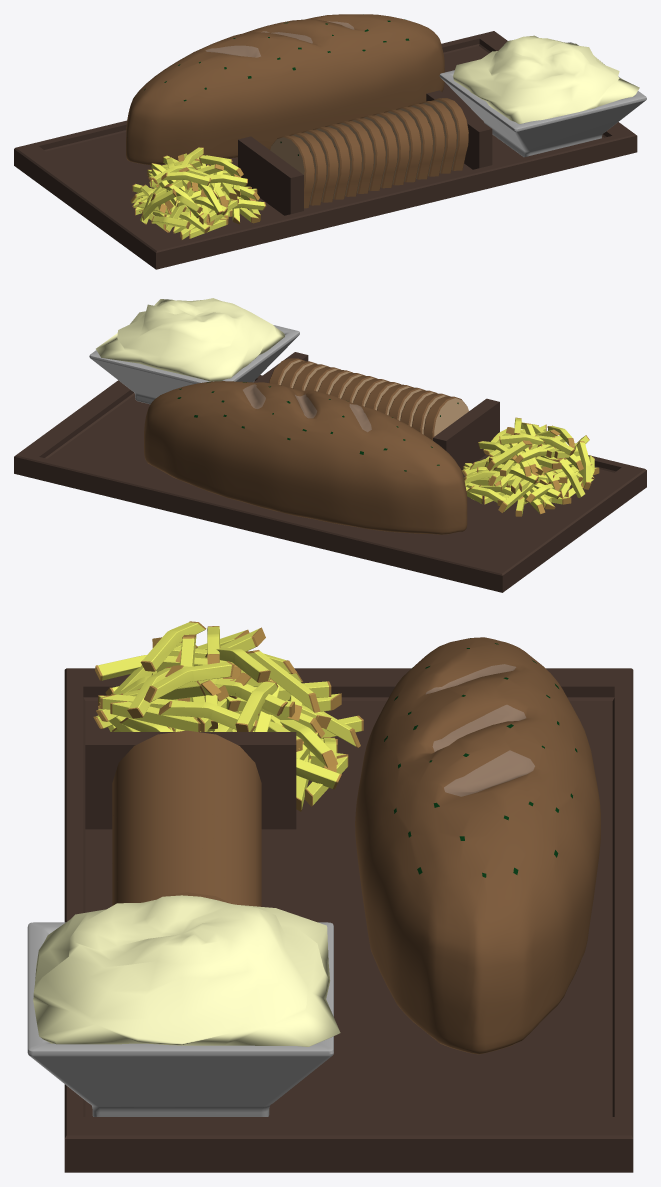
The model's file is TrayComplete.fbx.
3 renders of one model, top to bottom at view 1: azimuth 30°, elevation 25°; view 2: azimuth 150°, elevation 25°; view 3: azimuth 270°, elevation 25°, orthographic. The views are drawn at different scales.
Visible parts, largest first — view 1: Bread, Tray, MashedPotato, bowl, Bread1, Bread9, Bread10, Bread3, Bread2, Bread11, Bread4, Bread5 (+7 smaller); view 2: Bread, Tray, MashedPotato, bowl, Bread1, Bread2, Bread3, Bread4, Bread5, pCube12; view 3: Tray, Bread, MashedPotato, bowl, pCube15 (×4), Bread6, Bread4, Bread5, Bread7, Bread8, Bread3, Bread2 (+12 smaller).
Boxes of the visible parts, box(x1,y1,x2,y2) form: Bread: box(126, 14, 444, 164); Tray: box(14, 31, 637, 269); MashedPotato: box(453, 35, 639, 123); bowl: box(439, 42, 646, 157); Bread1: box(270, 135, 314, 208); Bread9: box(372, 112, 409, 185); Bread10: box(384, 109, 421, 182); Bread3: box(301, 129, 338, 202); Bread2: box(289, 132, 326, 205); Bread11: box(396, 106, 433, 179); Bread4: box(313, 127, 350, 199); Bread5: box(325, 124, 362, 196); Bread: box(144, 381, 467, 534); Tray: box(14, 352, 646, 592); MashedPotato: box(96, 298, 284, 381); bowl: box(89, 299, 299, 404); Bread1: box(423, 396, 468, 440); Bread2: box(411, 393, 449, 434); Bread3: box(400, 390, 437, 426); Bread4: box(388, 387, 425, 420); Bread5: box(377, 384, 413, 415); pCube12: box(486, 440, 532, 470); Tray: box(64, 668, 633, 1172); Bread: box(355, 637, 600, 1054); MashedPotato: box(33, 895, 340, 1046); bowl: box(27, 922, 333, 1116); pCube15 (×4): box(140, 621, 337, 768); Bread6: box(112, 788, 261, 851); Bread4: box(112, 765, 261, 828); Bread5: box(112, 776, 261, 840); Bread7: box(112, 800, 261, 863); Bread8: box(112, 811, 261, 874); Bread3: box(112, 753, 261, 816); Bread2: box(112, 742, 261, 805).
Size of the model in its own units: 0.5466 by 0.1166 by 0.2971.
